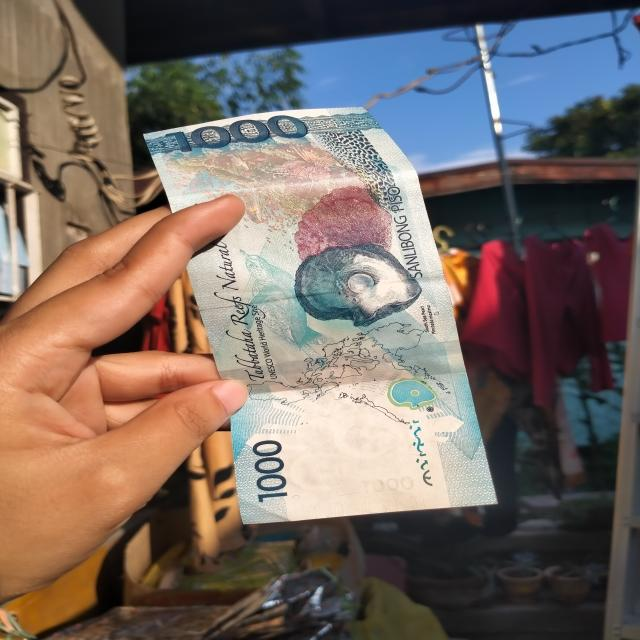security_thread: (219, 339, 462, 382)
see_through_mark: (406, 418, 438, 488)
value: (164, 117, 311, 154)
value_watermark: (360, 476, 419, 494)
watermark: (268, 410, 416, 490)
